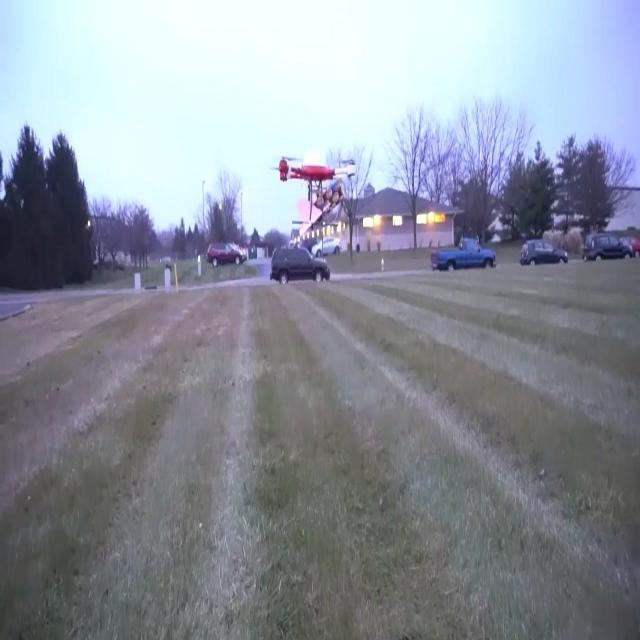drone: (271, 151, 361, 229)
